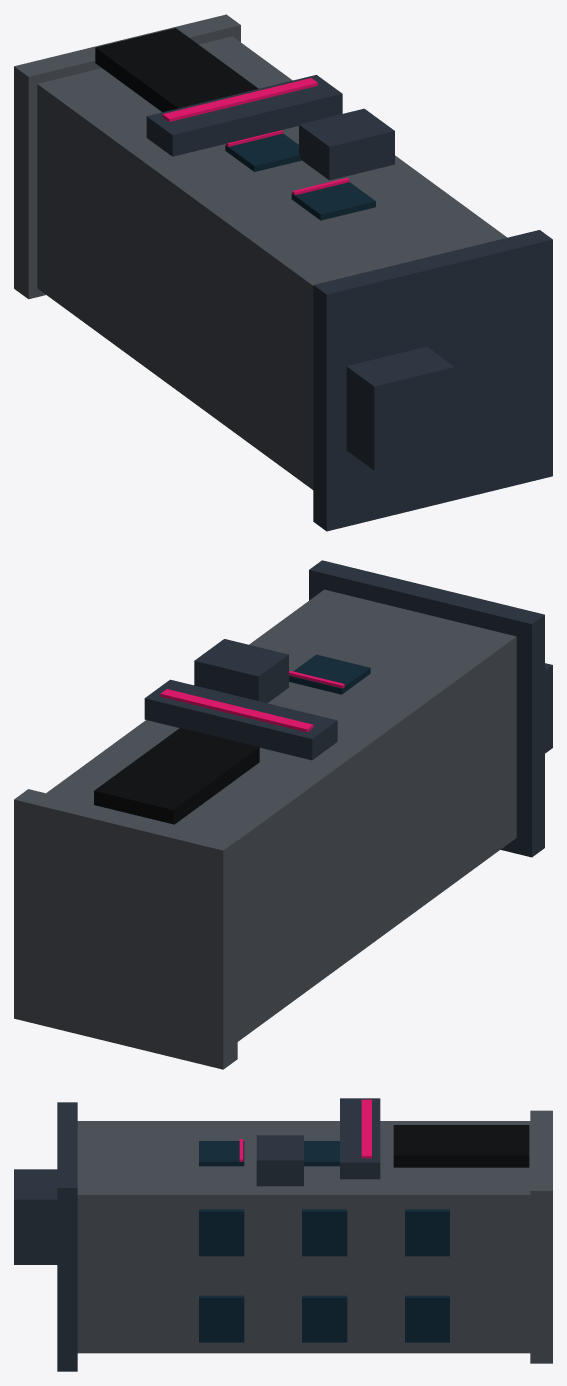
File: ENV_building_east.obj
3 renders of one model, top to bottom at view 1: azimuth 30°, elevation 25°; view 2: azimuth 150°, elevation 25°; view 3: azimuth 270°, elevation 25°, orthographic. The views are drawn at different scales.
Parts seen in each view (by area): view 1: ENV_building_east; view 2: ENV_building_east; view 3: ENV_building_east.
Part boxes in pixels (bbox=[...]): ENV_building_east: bbox=[14, 14, 552, 531]; ENV_building_east: bbox=[14, 560, 552, 1069]; ENV_building_east: bbox=[14, 1098, 552, 1371].
Size of the model in its own units: 1.97 by 2.16 by 5.24.
